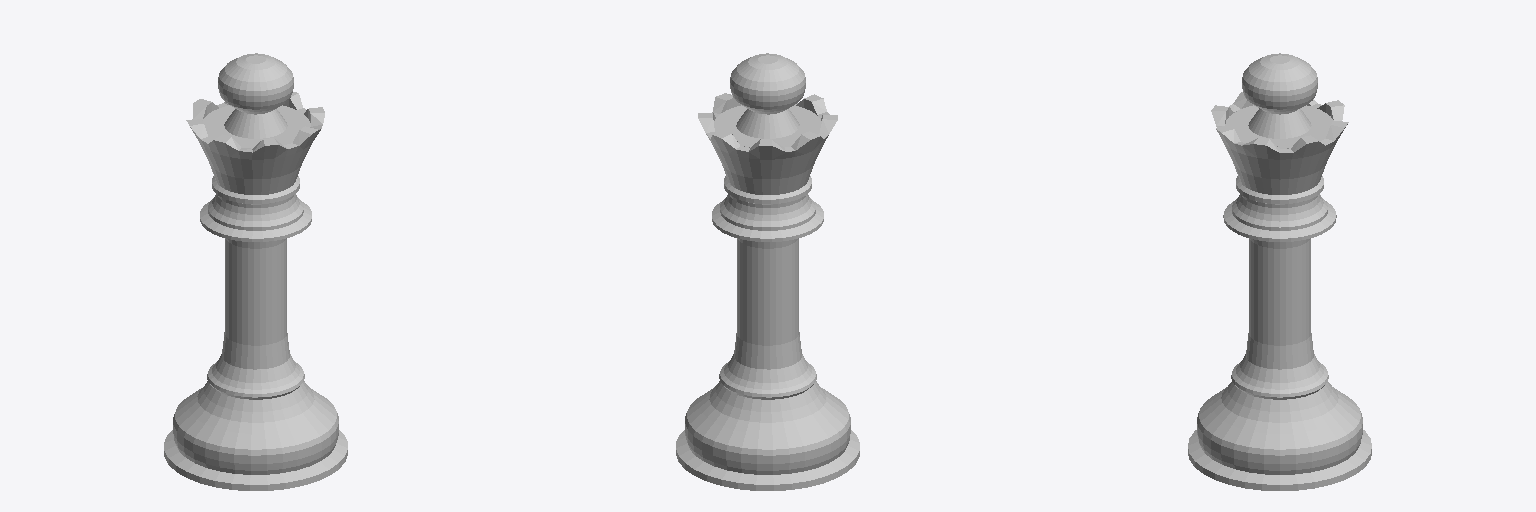
Rendered from queen.obj.
3 views of the same model, side by side, from view 1: azimuth 30°, elevation 25°; view 2: azimuth 150°, elevation 25°; view 3: azimuth 270°, elevation 25° (orthographic).
Parts seen in each view (by area): view 1: Cylinder; view 2: Cylinder; view 3: Cylinder.
Boxes of the visible parts, box(x1,y1,x2,y2) form: Cylinder: box(164, 53, 347, 490); Cylinder: box(676, 53, 859, 490); Cylinder: box(1188, 53, 1371, 490).
Size of the model in its own units: 0.8815 by 2.07 by 0.8815.